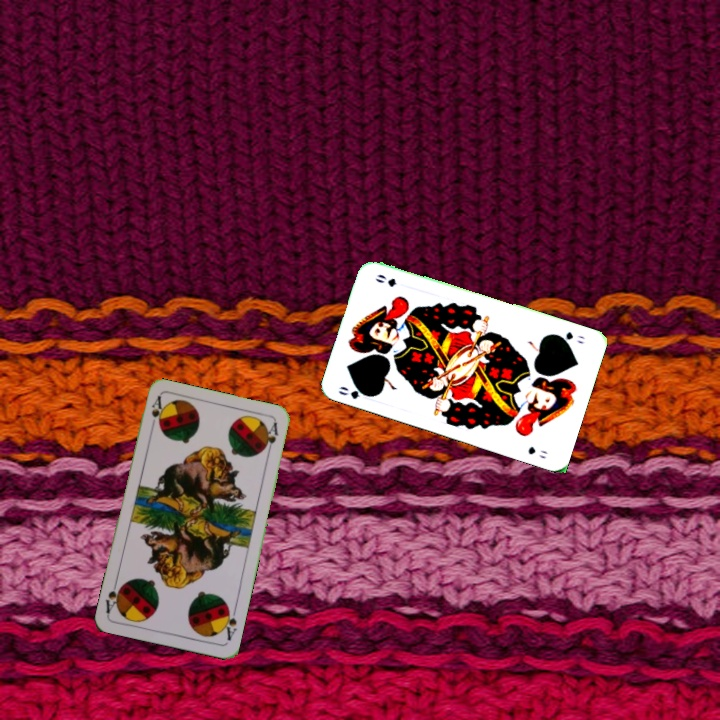GO: (334, 382, 375, 402), (551, 328, 587, 347)
SA: (218, 602, 239, 643), (146, 393, 166, 433)
